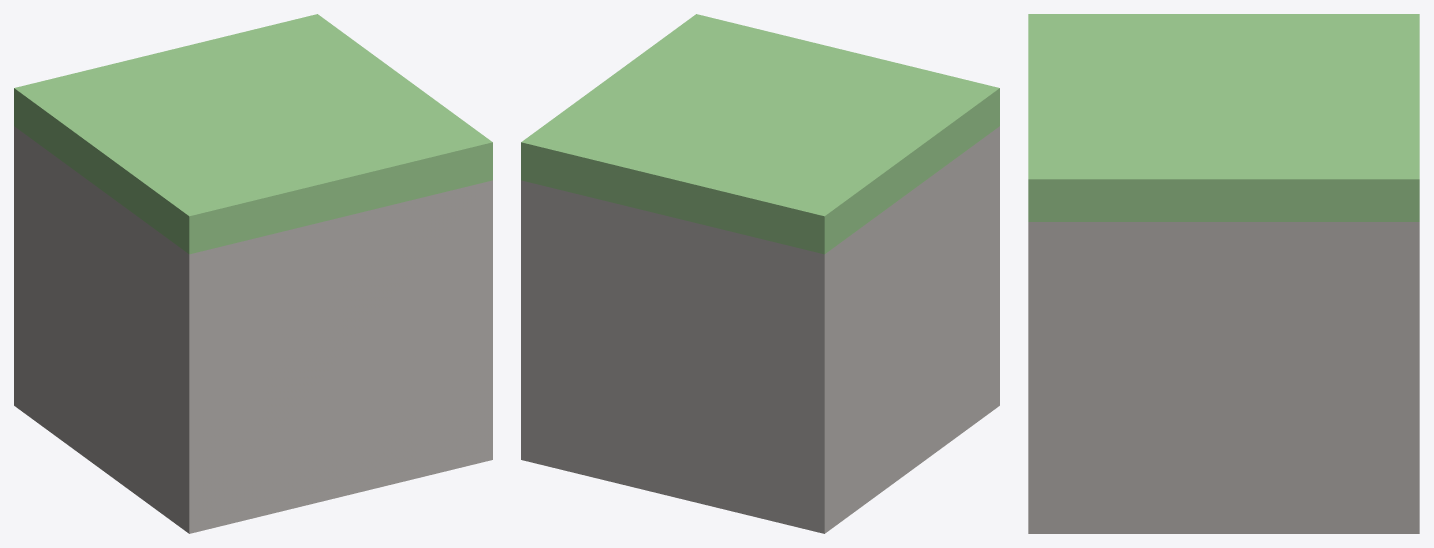
Rendered from tile_block.glb.
3 renders of one model, left to right at view 1: azimuth 30°, elevation 25°; view 2: azimuth 150°, elevation 25°; view 3: azimuth 270°, elevation 25°, orthographic. The views are drawn at different scales.
Parts seen in each view (by area): view 1: Body, Top; view 2: Body, Top; view 3: Body, Top.
Boxes of the visible parts, bbox=[...] form: Body: bbox=[14, 126, 492, 533]; Top: bbox=[14, 14, 492, 254]; Body: bbox=[521, 126, 999, 533]; Top: bbox=[521, 14, 999, 254]; Body: bbox=[1028, 222, 1419, 533]; Top: bbox=[1028, 14, 1419, 221].
Size of the model in its own units: 1 by 1 by 1.
